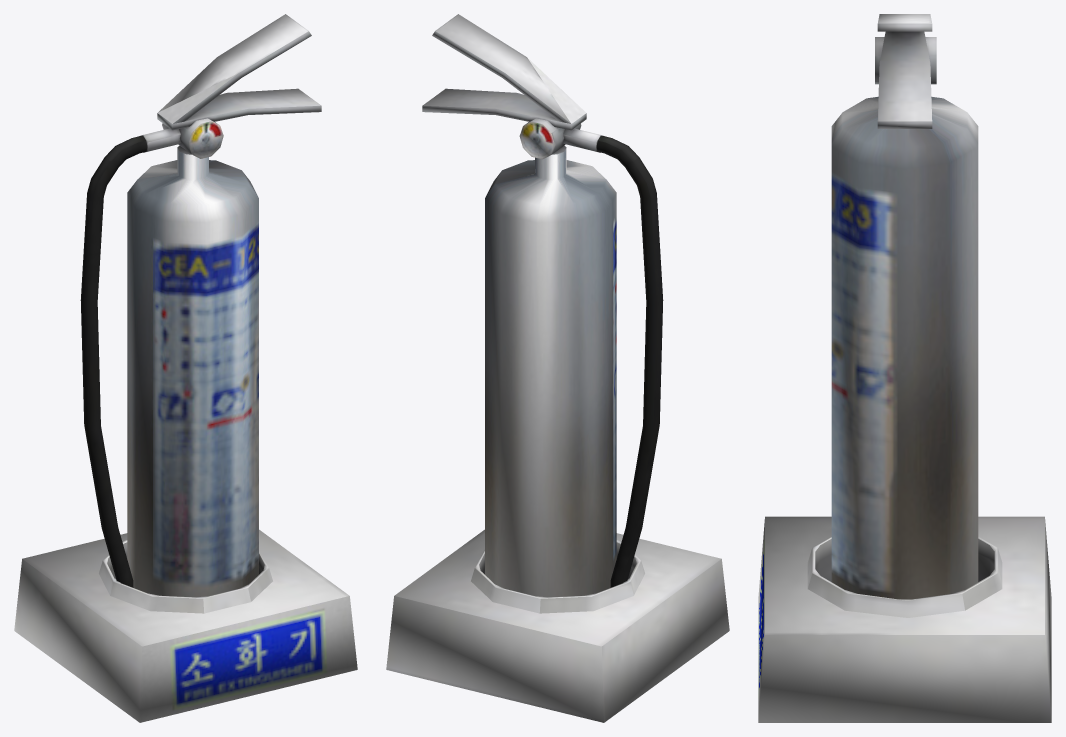
File: haronextinguisher01.gltf
3 views of the same model, side by side, from view 1: azimuth 30°, elevation 25°; view 2: azimuth 150°, elevation 25°; view 3: azimuth 270°, elevation 25° (orthographic). The views are drawn at different scales.
Parts seen in each view (by area): view 1: haronextinguisher; view 2: haronextinguisher; view 3: haronextinguisher.
Part boxes in pixels (box(x1,y1,x2,y2)): haronextinguisher: box(14, 14, 357, 722); haronextinguisher: box(386, 14, 729, 722); haronextinguisher: box(758, 14, 1051, 722).
Size of the model in its own units: 2.01 by 4.96 by 1.88.
1 material, 1 textured.
